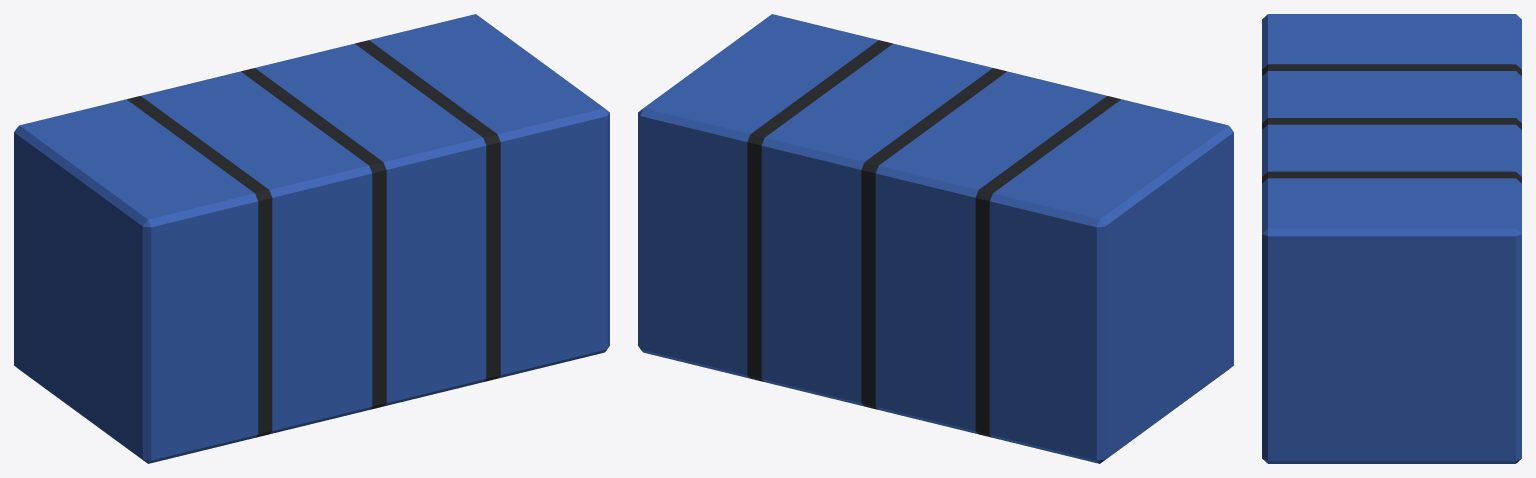
The model's file is Cargo_3.fbx.
The picture shows the model from 3 angles, left to right: view 1: azimuth 30°, elevation 25°; view 2: azimuth 150°, elevation 25°; view 3: azimuth 270°, elevation 25°; orthographic projection. The views are drawn at different scales.
Parts seen in each view (by area): view 1: Cargo_3; view 2: Cargo_3; view 3: Cargo_3.
Part boxes in pixels (box(x1,y1,x2,y2)): Cargo_3: box(14, 14, 609, 463); Cargo_3: box(638, 14, 1233, 463); Cargo_3: box(1262, 14, 1521, 463).
Bounding box in the file's own units: 223 × 112 × 112.
